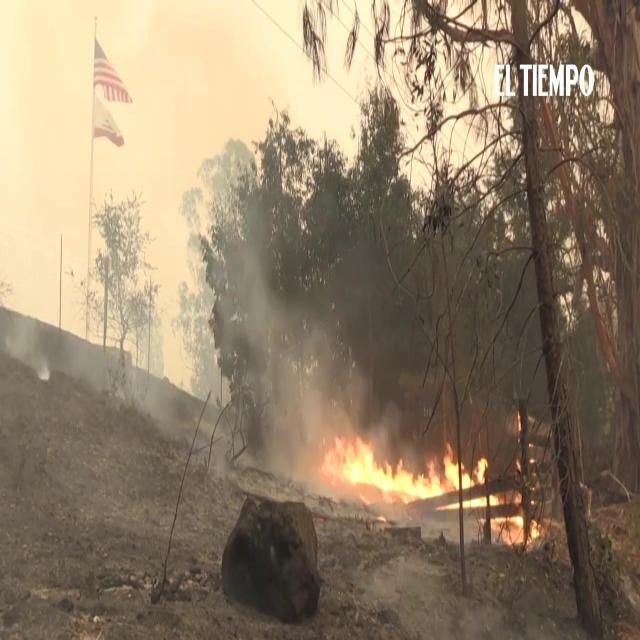Fire: (323, 431, 545, 542)
